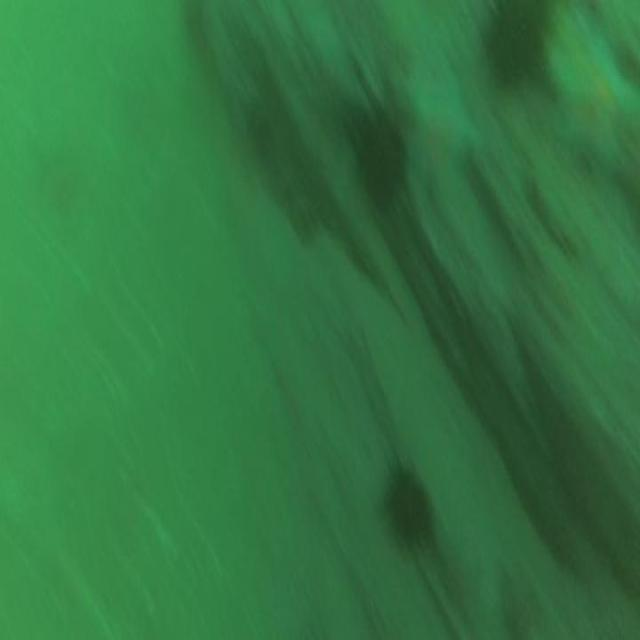echinus: (471, 3, 564, 120), (347, 95, 413, 213), (376, 448, 443, 562)
starfish: (547, 28, 640, 183), (404, 61, 482, 192)
